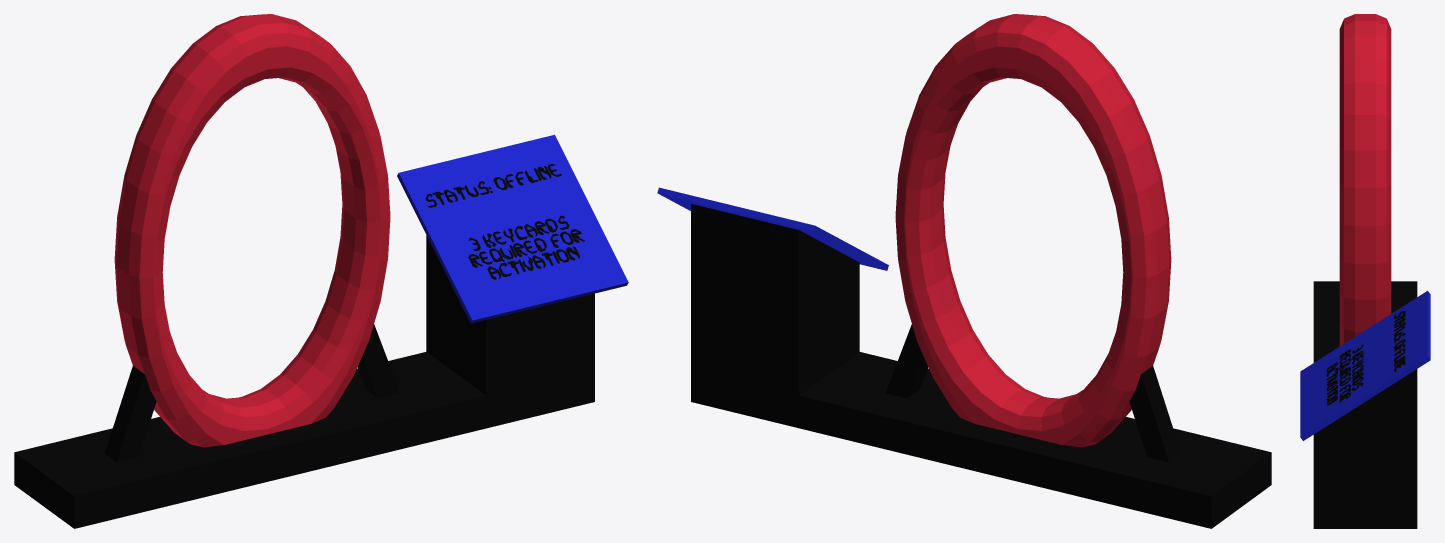
The model's file is Portal OFF.obj.
3 views of the same model, side by side, from view 1: azimuth 30°, elevation 25°; view 2: azimuth 150°, elevation 25°; view 3: azimuth 270°, elevation 25° (orthographic). The views are drawn at different scales.
Parts seen in each view (by area): view 1: Portal_OFF_Cube.002_Portal_OFF_Cube.002_Material.004, Portal_OFF_Cube.002_Portal_OFF_Cube.002_Material.002, Portal_OFF_Cube.002_Portal_OFF_Cube.002_Material.013, Portal_OFF_Cube.002_Portal_OFF_Cube.002_Material.003; view 2: Portal_OFF_Cube.002_Portal_OFF_Cube.002_Material.004, Portal_OFF_Cube.002_Portal_OFF_Cube.002_Material.002, Portal_OFF_Cube.002_Portal_OFF_Cube.002_Material.013; view 3: Portal_OFF_Cube.002_Portal_OFF_Cube.002_Material.004, Portal_OFF_Cube.002_Portal_OFF_Cube.002_Material.002, Portal_OFF_Cube.002_Portal_OFF_Cube.002_Material.013, Portal_OFF_Cube.002_Portal_OFF_Cube.002_Material.003.
Boxes of the visible parts, x1,y1,x2,y2 form: Portal_OFF_Cube.002_Portal_OFF_Cube.002_Material.004: [14, 215, 594, 528]; Portal_OFF_Cube.002_Portal_OFF_Cube.002_Material.002: [114, 14, 390, 447]; Portal_OFF_Cube.002_Portal_OFF_Cube.002_Material.013: [397, 134, 628, 323]; Portal_OFF_Cube.002_Portal_OFF_Cube.002_Material.003: [425, 163, 561, 207]; Portal_OFF_Cube.002_Portal_OFF_Cube.002_Material.004: [691, 204, 1271, 528]; Portal_OFF_Cube.002_Portal_OFF_Cube.002_Material.002: [895, 14, 1171, 447]; Portal_OFF_Cube.002_Portal_OFF_Cube.002_Material.013: [657, 187, 888, 270]; Portal_OFF_Cube.002_Portal_OFF_Cube.002_Material.004: [1313, 281, 1417, 528]; Portal_OFF_Cube.002_Portal_OFF_Cube.002_Material.002: [1339, 14, 1391, 345]; Portal_OFF_Cube.002_Portal_OFF_Cube.002_Material.013: [1300, 290, 1430, 440]; Portal_OFF_Cube.002_Portal_OFF_Cube.002_Material.003: [1394, 311, 1405, 371].
Bounding box in the file's own units: 5.25 × 4 × 1.26.
